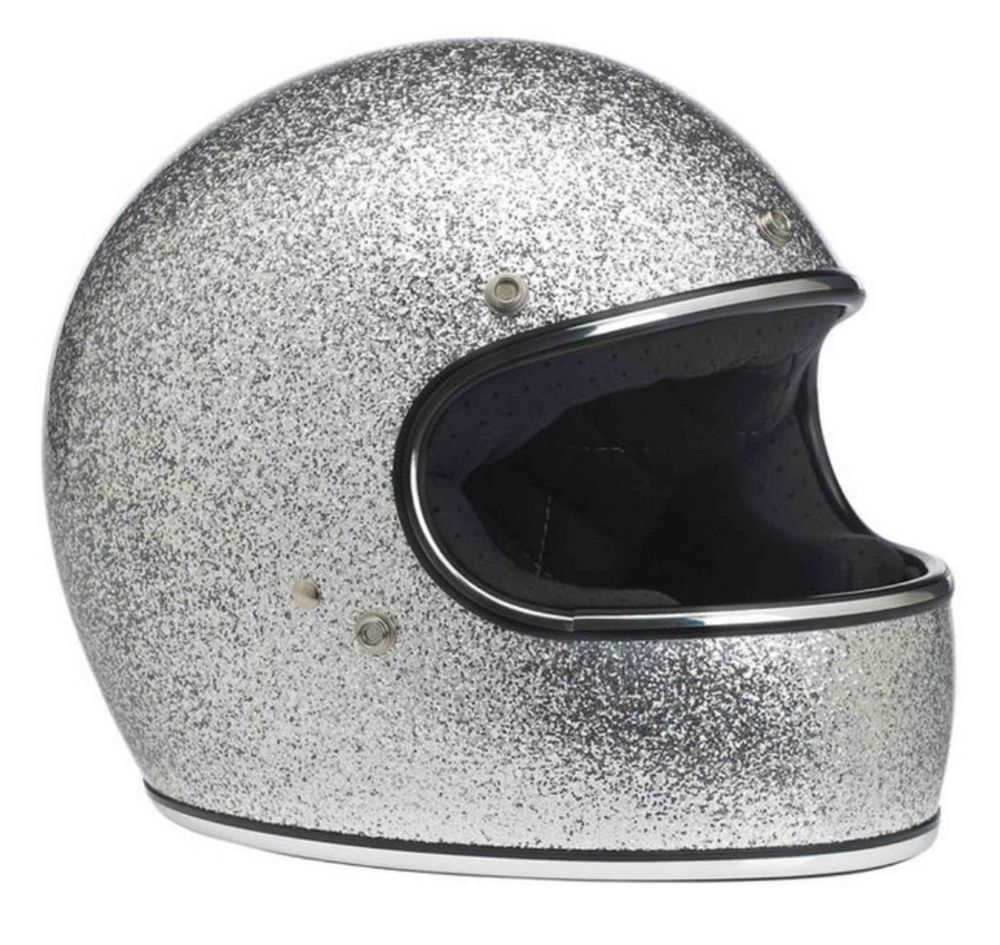with_helmet: (31, 28, 969, 890)
